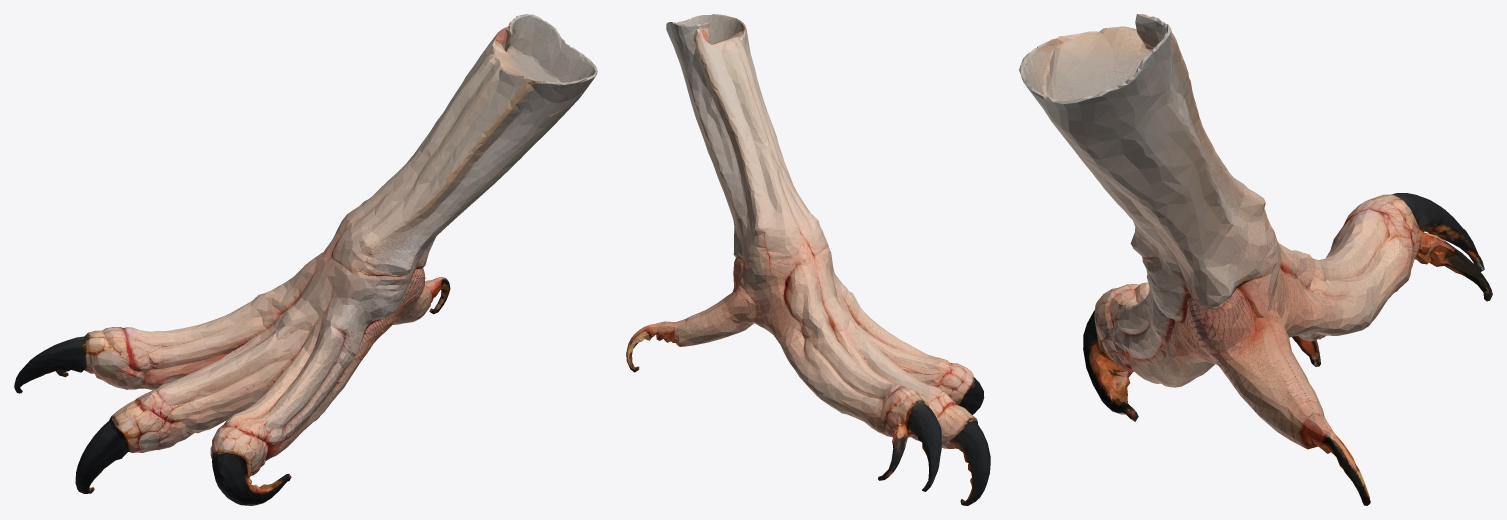
Rendered from foot (20).glb.
The picture shows the model from 3 angles, left to right: view 1: azimuth 30°, elevation 25°; view 2: azimuth 150°, elevation 25°; view 3: azimuth 270°, elevation 25°; orthographic projection. The views are drawn at different scales.
Visible parts, largest first — view 1: Hy21_Mesh.obj; view 2: Hy21_Mesh.obj; view 3: Hy21_Mesh.obj.
Part boxes in pixels (x1,y1,x2,y2): Hy21_Mesh.obj: (14, 14, 597, 505); Hy21_Mesh.obj: (626, 14, 990, 505); Hy21_Mesh.obj: (1019, 14, 1492, 505).
Bounding box in the file's own units: 1.95 × 1.8 × 1.29.
1 material, 1 textured.
